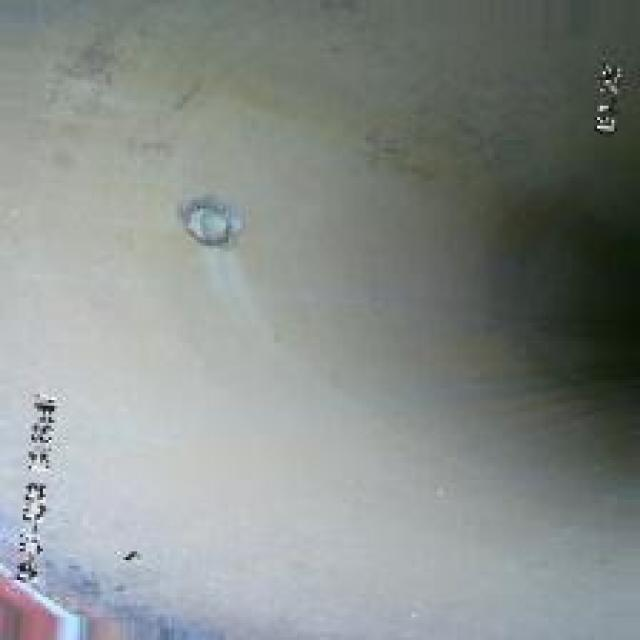ferrule: (163, 186, 243, 246)
